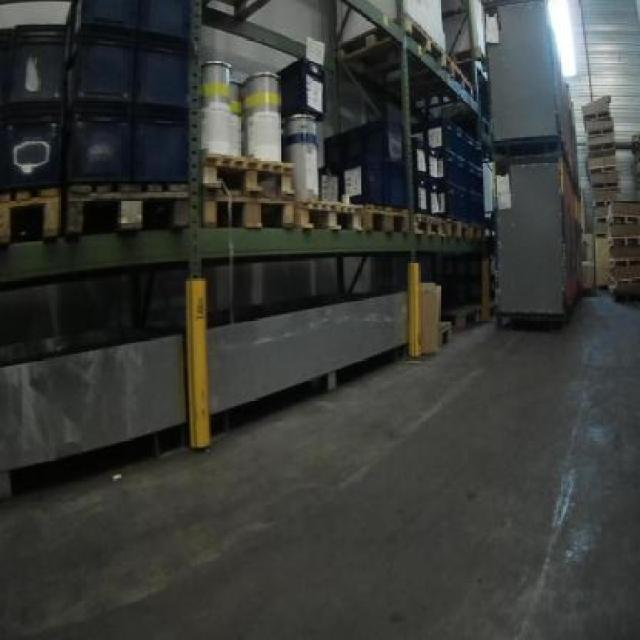ground: (0, 292, 638, 638)
pallet: (339, 15, 474, 111), (0, 180, 195, 245), (196, 148, 298, 233), (579, 86, 627, 237), (404, 8, 477, 101), (604, 195, 640, 299), (441, 292, 496, 348), (298, 196, 363, 233), (497, 307, 566, 337), (412, 211, 476, 237), (362, 203, 411, 231), (491, 138, 562, 156), (578, 94, 596, 96)
